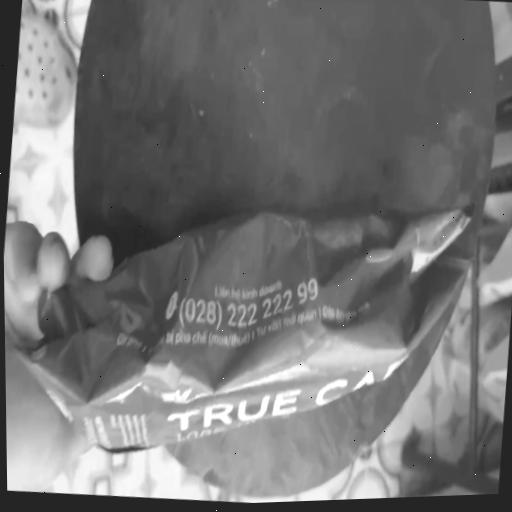cafe_xay: (20, 207, 470, 452)
